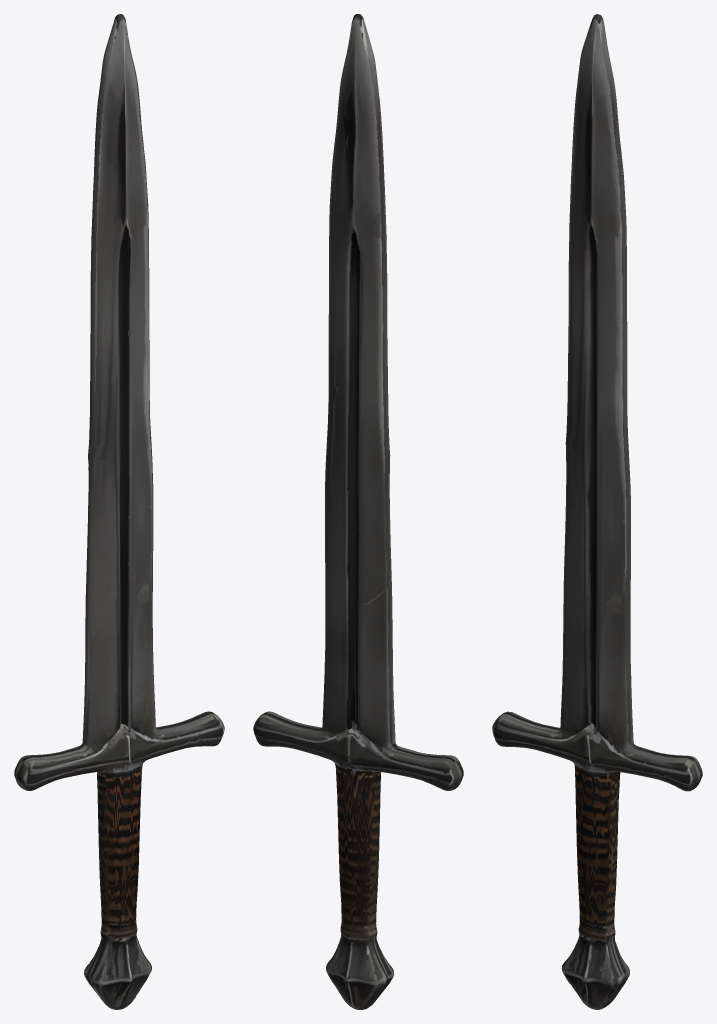
The model's file is bastardsword.glb.
3 views of the same model, side by side, from view 1: azimuth 30°, elevation 25°; view 2: azimuth 150°, elevation 25°; view 3: azimuth 330°, elevation 25° (orthographic).
Visible parts, largest first — view 1: BastardSword; view 2: BastardSword; view 3: BastardSword.
Boxes of the visible parts, <box> form: BastardSword: <box>14,14,224,1009</box>; BastardSword: <box>253,14,463,1009</box>; BastardSword: <box>492,14,702,1009</box>.
Bounding box in the file's own units: 0.264 × 1.22 × 0.0544.
Materials: 1 (1 with a texture image).
